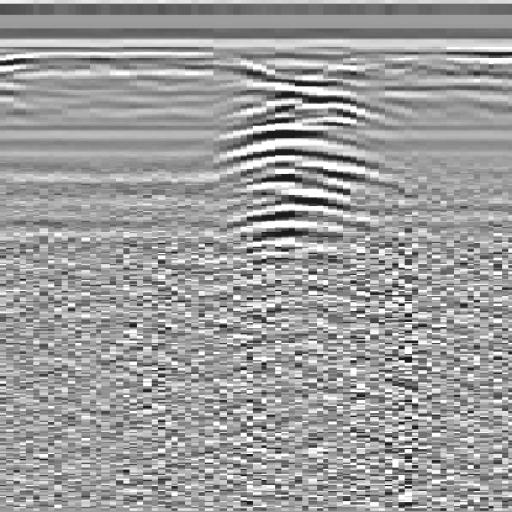metalic: (149, 58, 454, 318)
